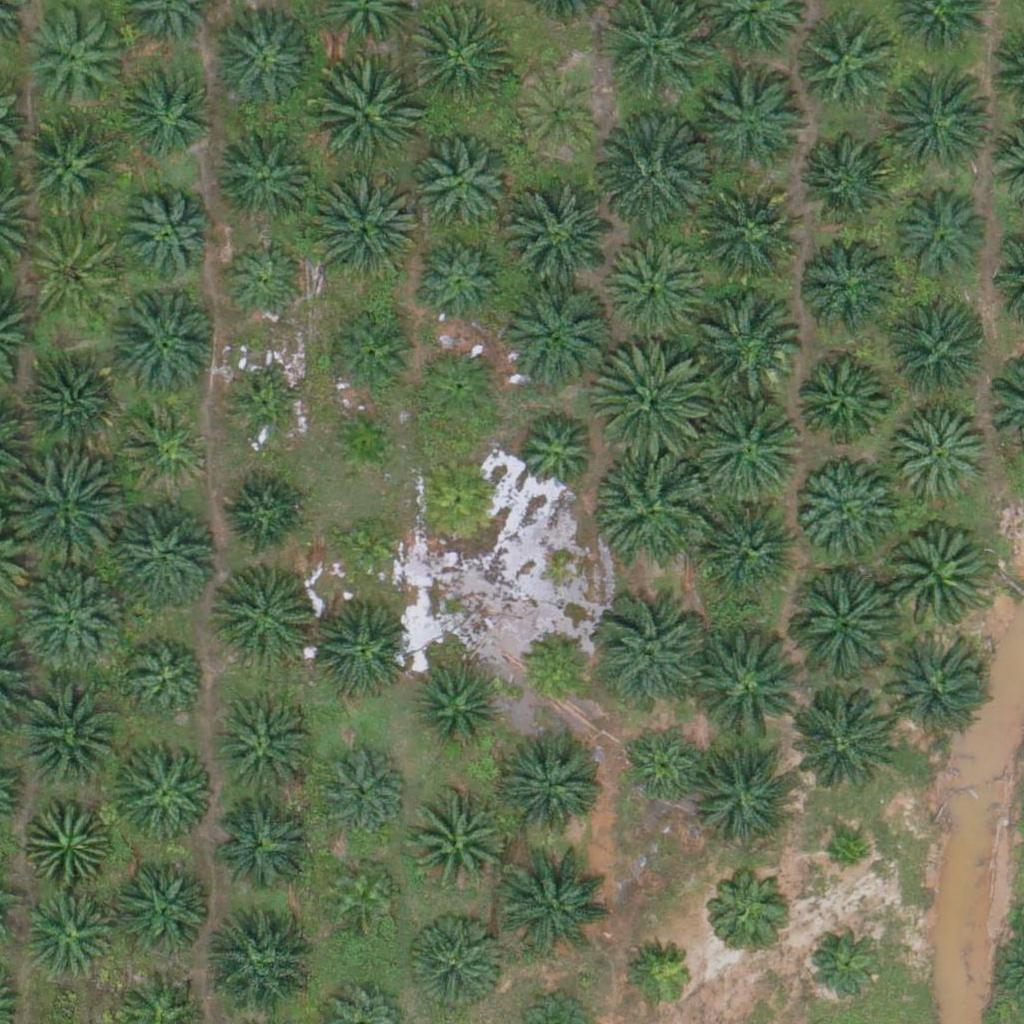Kelapa_Sawit: (784, 569, 897, 682), (781, 686, 894, 799), (599, 450, 712, 563), (596, 598, 709, 711), (689, 286, 802, 399), (596, 119, 709, 232), (306, 172, 419, 285), (307, 60, 420, 173), (18, 561, 130, 675), (688, 628, 800, 742), (692, 387, 804, 501), (594, 339, 706, 453), (5, 455, 117, 568), (10, 676, 122, 789), (108, 496, 220, 609), (199, 907, 311, 1020), (501, 847, 613, 960), (880, 521, 992, 634), (877, 629, 989, 742), (693, 738, 805, 851), (884, 64, 996, 177), (405, 2, 517, 115), (107, 286, 219, 399), (503, 185, 615, 298), (498, 278, 610, 391), (115, 862, 215, 963), (114, 738, 214, 839), (216, 702, 316, 803), (214, 793, 314, 894), (307, 600, 407, 701), (406, 793, 506, 894), (503, 732, 603, 833), (891, 407, 991, 508), (789, 352, 889, 453), (796, 460, 896, 561), (605, 240, 705, 341), (410, 134, 510, 235), (212, 13, 312, 114), (214, 126, 314, 227), (116, 185, 216, 286), (22, 3, 122, 104), (19, 113, 119, 214), (20, 356, 120, 456), (213, 564, 313, 664), (407, 912, 507, 1012), (889, 309, 989, 409), (703, 498, 803, 598), (889, 185, 989, 285), (801, 230, 901, 330), (793, 10, 893, 110), (798, 126, 898, 226), (704, 76, 804, 176), (696, 189, 796, 289), (25, 222, 125, 322), (414, 454, 502, 543), (620, 724, 708, 812), (414, 341, 502, 429), (27, 888, 115, 976), (705, 861, 793, 949), (515, 72, 603, 160), (219, 239, 307, 327), (122, 71, 210, 159), (416, 237, 503, 326), (122, 404, 209, 492), (25, 796, 112, 884), (126, 638, 213, 726), (221, 468, 308, 556), (319, 745, 406, 833), (413, 665, 500, 753), (803, 917, 890, 1005), (510, 409, 597, 497), (325, 311, 412, 399), (517, 626, 592, 702), (325, 403, 400, 479), (329, 511, 404, 587), (231, 374, 306, 449), (625, 938, 700, 1013), (326, 859, 401, 934), (822, 832, 872, 882)
